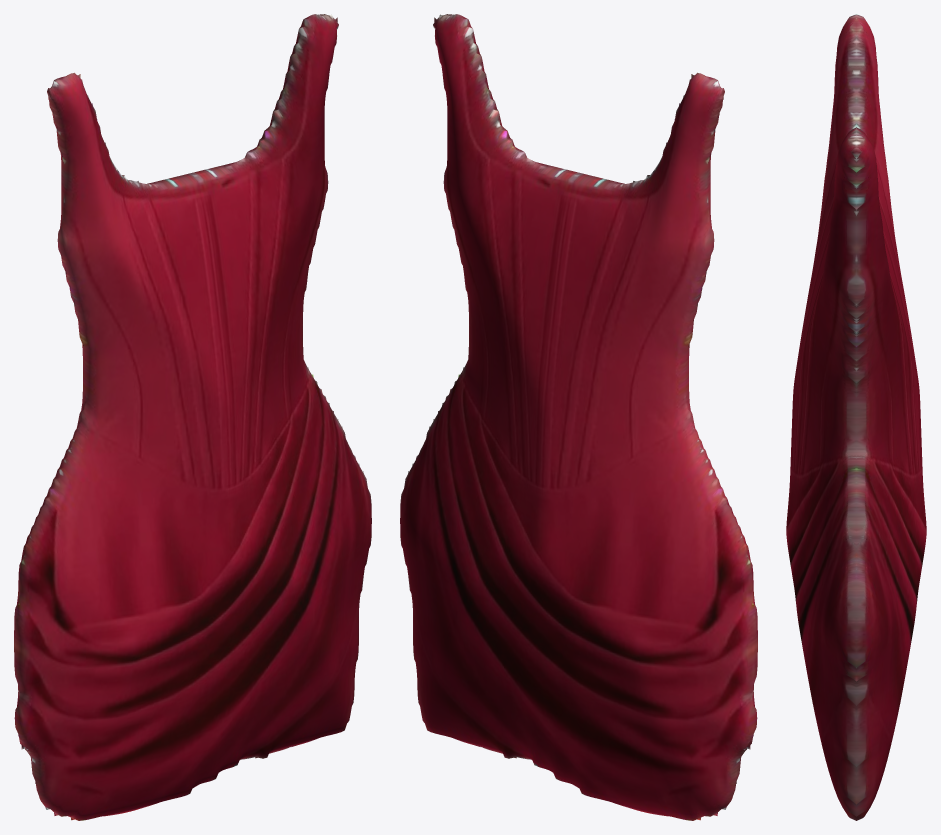
File: prod-ae-crimson-corset-mini.glb
The picture shows the model from 3 angles, left to right: view 1: azimuth 30°, elevation 25°; view 2: azimuth 150°, elevation 25°; view 3: azimuth 270°, elevation 25°; orthographic projection. The views are drawn at different scales.
Visible parts, largest first — view 1: prod-ae-crimson-corset-mini_standalone; view 2: prod-ae-crimson-corset-mini_standalone; view 3: prod-ae-crimson-corset-mini_standalone.
Part boxes in pixels (box(x1,y1,x2,y2)): prod-ae-crimson-corset-mini_standalone: box(14, 14, 371, 820); prod-ae-crimson-corset-mini_standalone: box(400, 14, 757, 820); prod-ae-crimson-corset-mini_standalone: box(786, 14, 926, 820).
Bounding box in the file's own units: 0.3125 × 0.6371 × 0.1145.
Materials: 1 (1 with a texture image).
